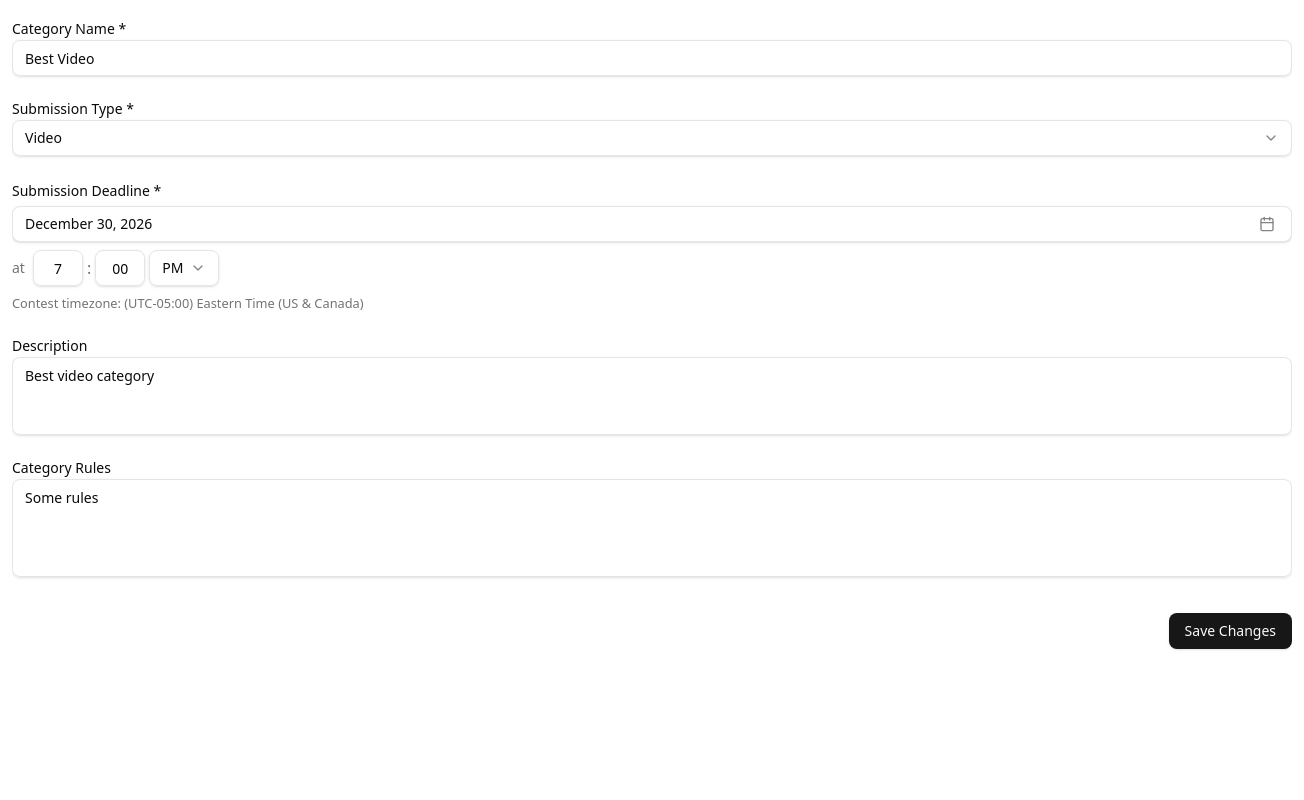
it: EditCategoryForm › shows validation error when name is cleared
This screenshot has width=1304, height=800.
Clear the field labelled "Category Name *". click: (652, 58)
box: x1=12 y1=40 x2=1292 y2=76
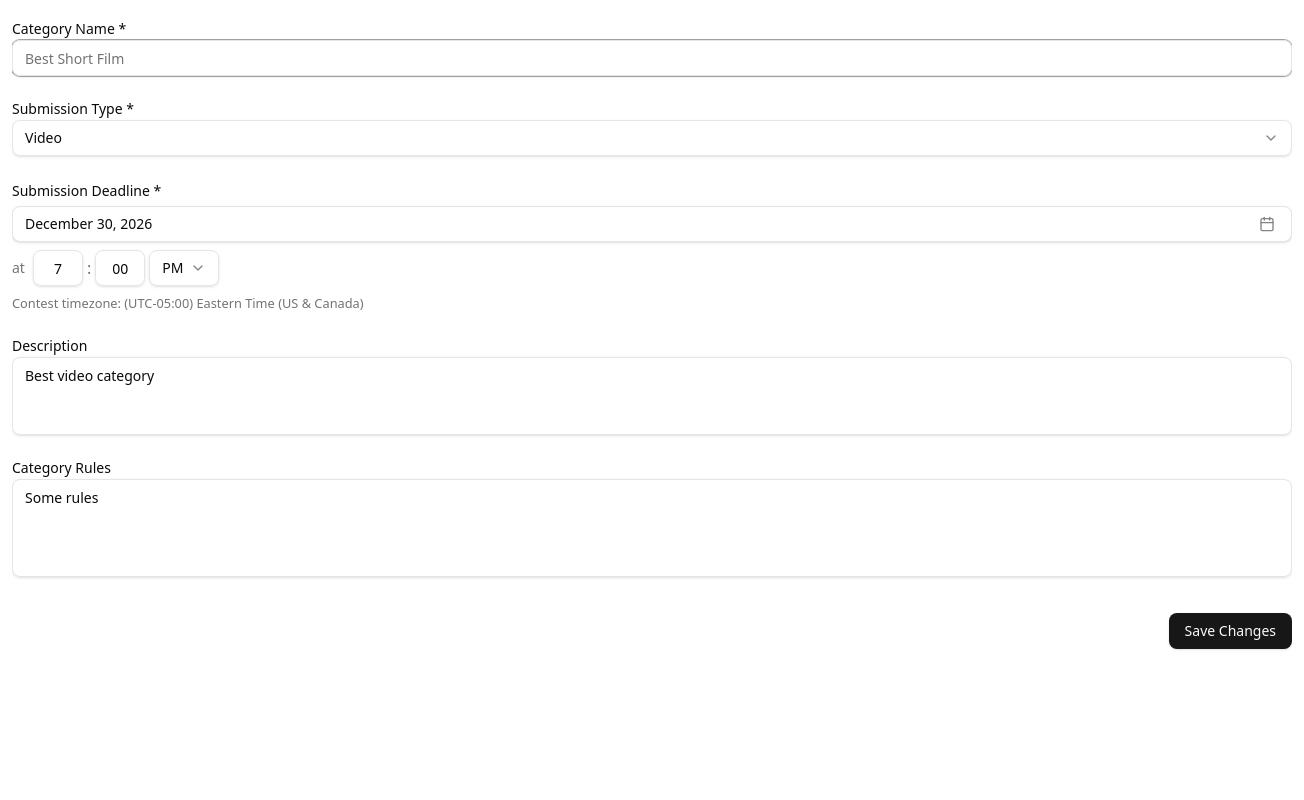
Click the button "Save Changes". click: (1230, 631)
box: x1=1169 y1=613 x2=1292 y2=649
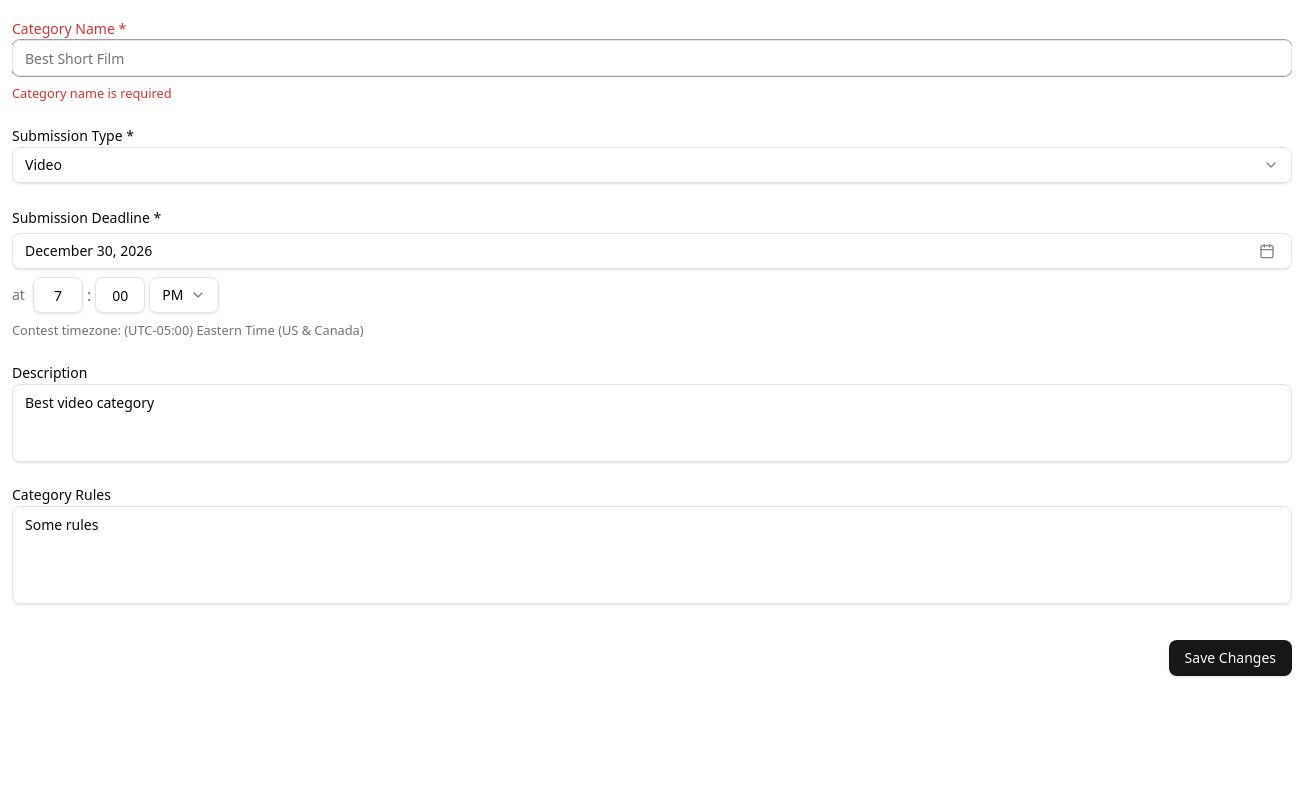
Expected: the text "Category name is required" is shown, x1=12 y1=84 x2=172 y2=102
